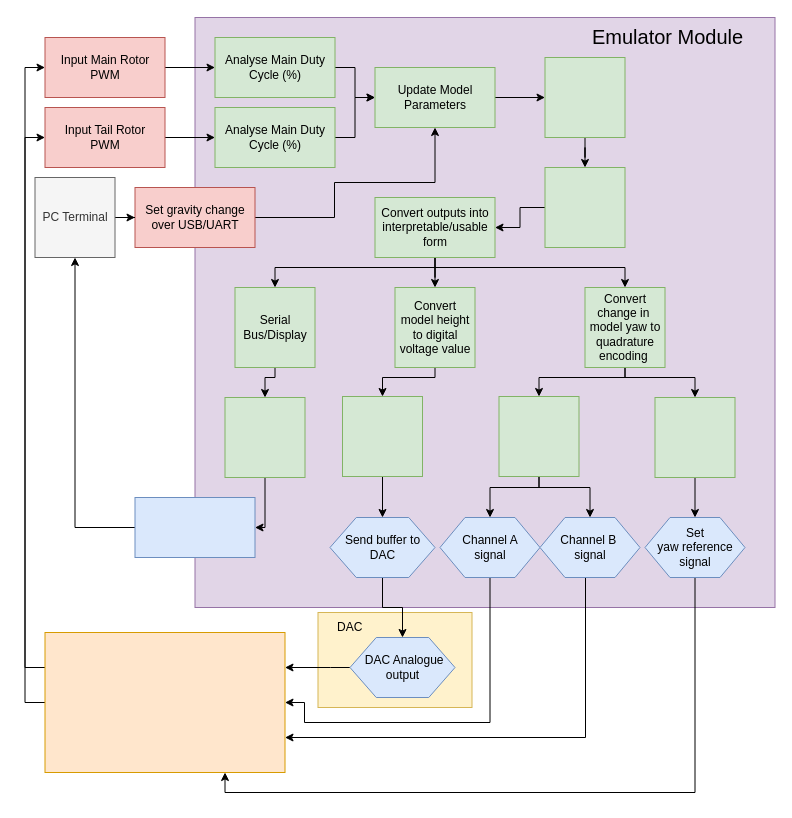
The diagram is 792 pixels wide and 818 high, and some of its shapes have lost their labels. The shapes that lost their labels are listed below. From the top down, each one's centre as x and y in pixels, then its label:
At (x=584, y=97): "Simulate Model (One step)".
At (x=584, y=207): "Track Model Outputs".
At (x=264, y=437): "Print to UART buffer (Non-blocking)".
At (x=382, y=436): "Update 12-bit DAC buffer".
At (x=538, y=436): "Send out Quadrature encoded yaw".
At (x=694, y=437): "Update pulse counts".
At (x=194, y=527): "Send buffer over USB".
At (x=164, y=702): "Controller Module".
